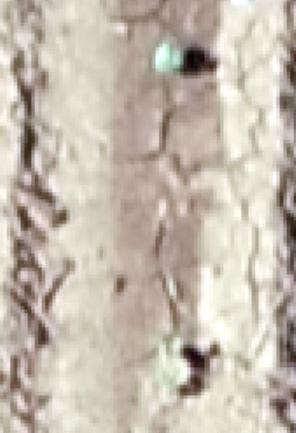cotton: (155, 43, 182, 69), (166, 349, 183, 362), (164, 375, 183, 385)
